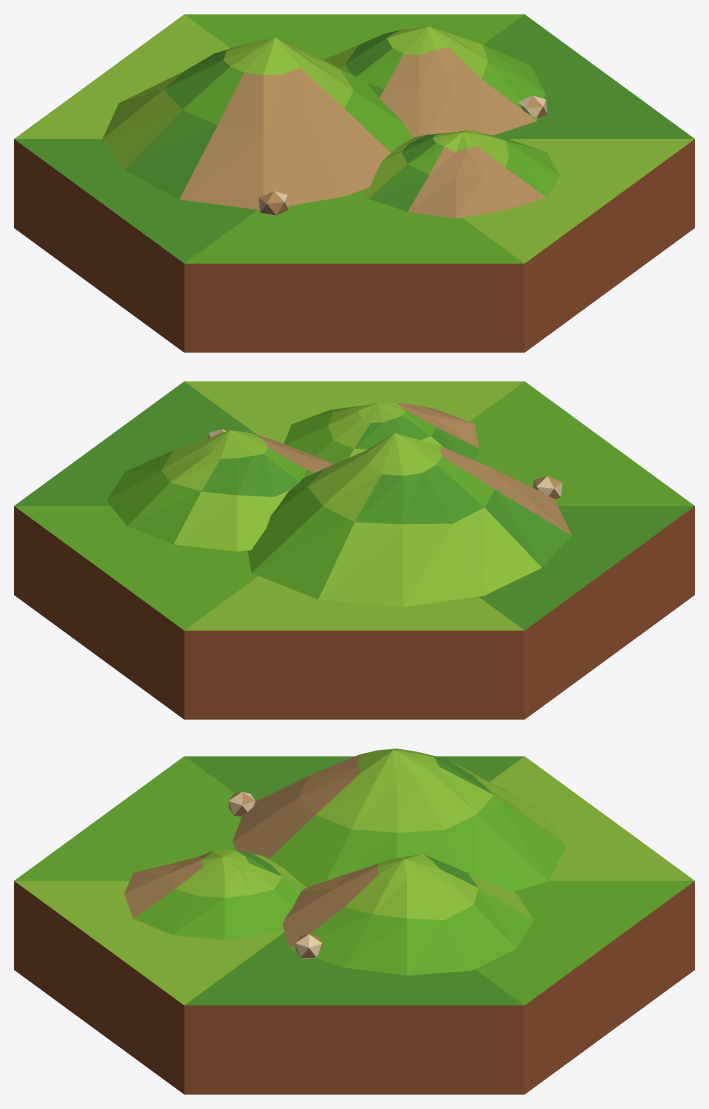
File: SM_Colina_A_LOD0.fbx
3 views of the same model, one above another, from view 1: azimuth 30°, elevation 25°; view 2: azimuth 150°, elevation 25°; view 3: azimuth 270°, elevation 25° (orthographic).
Visible parts, largest first — view 1: SM_Colina_A_LOD0; view 2: SM_Colina_A_LOD0; view 3: SM_Colina_A_LOD0.
Boxes of the visible parts, box(x1,y1,x2,y2) form: SM_Colina_A_LOD0: box(14, 14, 694, 352); SM_Colina_A_LOD0: box(14, 381, 694, 719); SM_Colina_A_LOD0: box(14, 748, 694, 1094).
Bounding box in the file's own units: 1.68 × 0.6 × 1.94.
